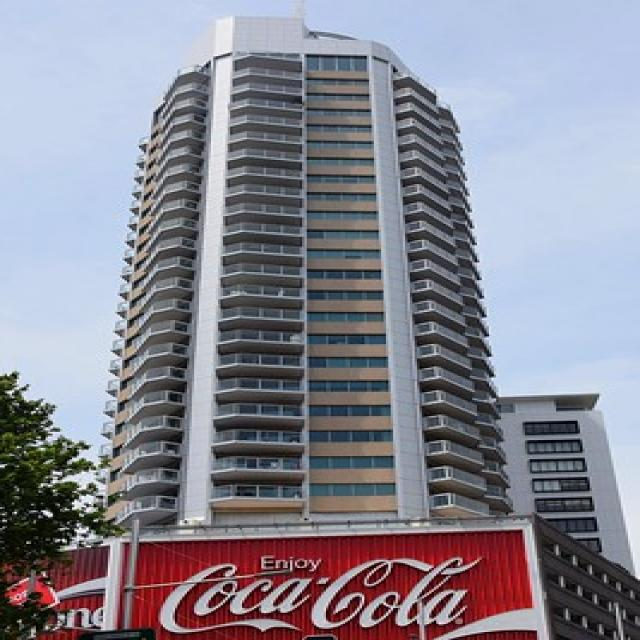Normal_building: (79, 6, 554, 640)
